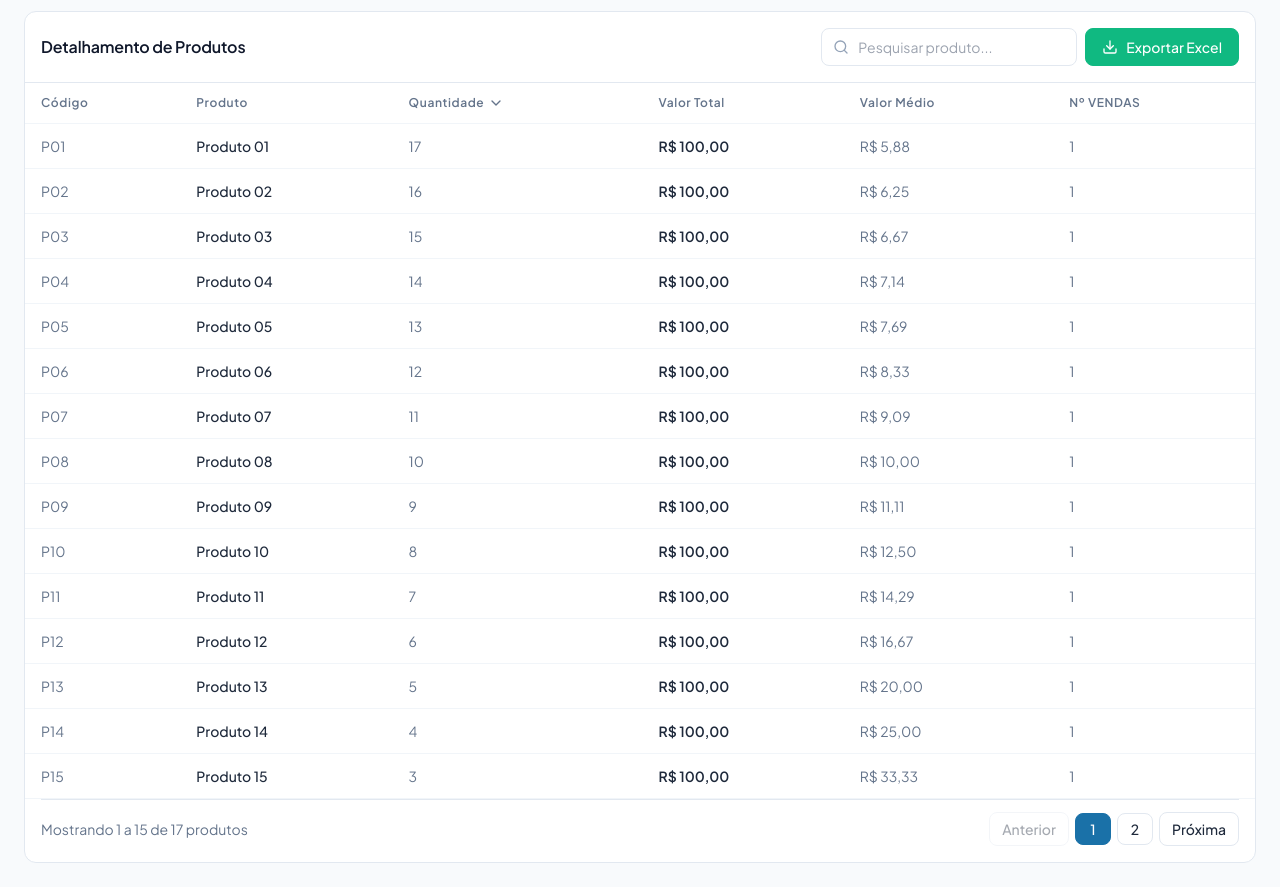
Test: paginacao em Produtos › Proximo leva a segunda pagina, que tem o resto
(page scrolled)
Step 1. Click the button "Próxima" → (1199, 829), box 1159,812 -> 1239,846
(page scrolled)
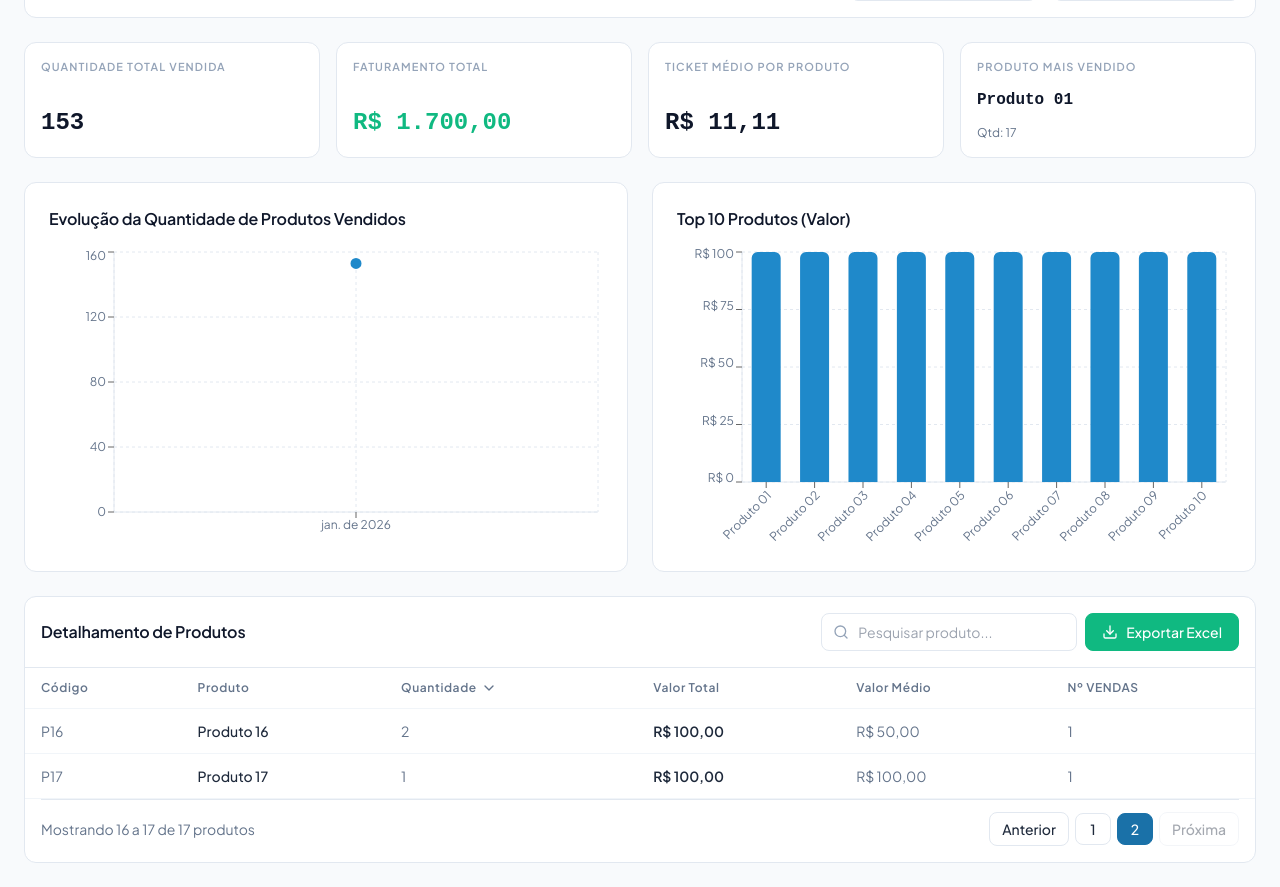
Expected: the text "Produto 16" is shown, 198,722 -> 269,740
Expected: the text "Mostrando 16 a 17 de 17 produtos" is shown, 41,819 -> 255,839
